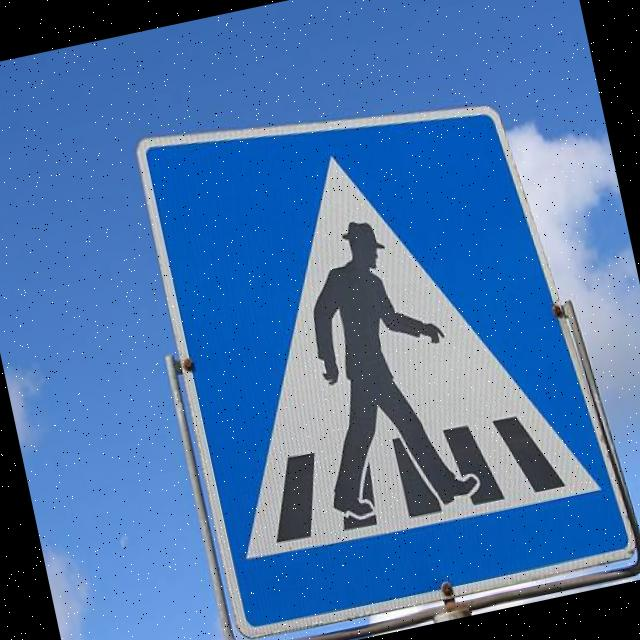crosswalk: (127, 59, 640, 640)
